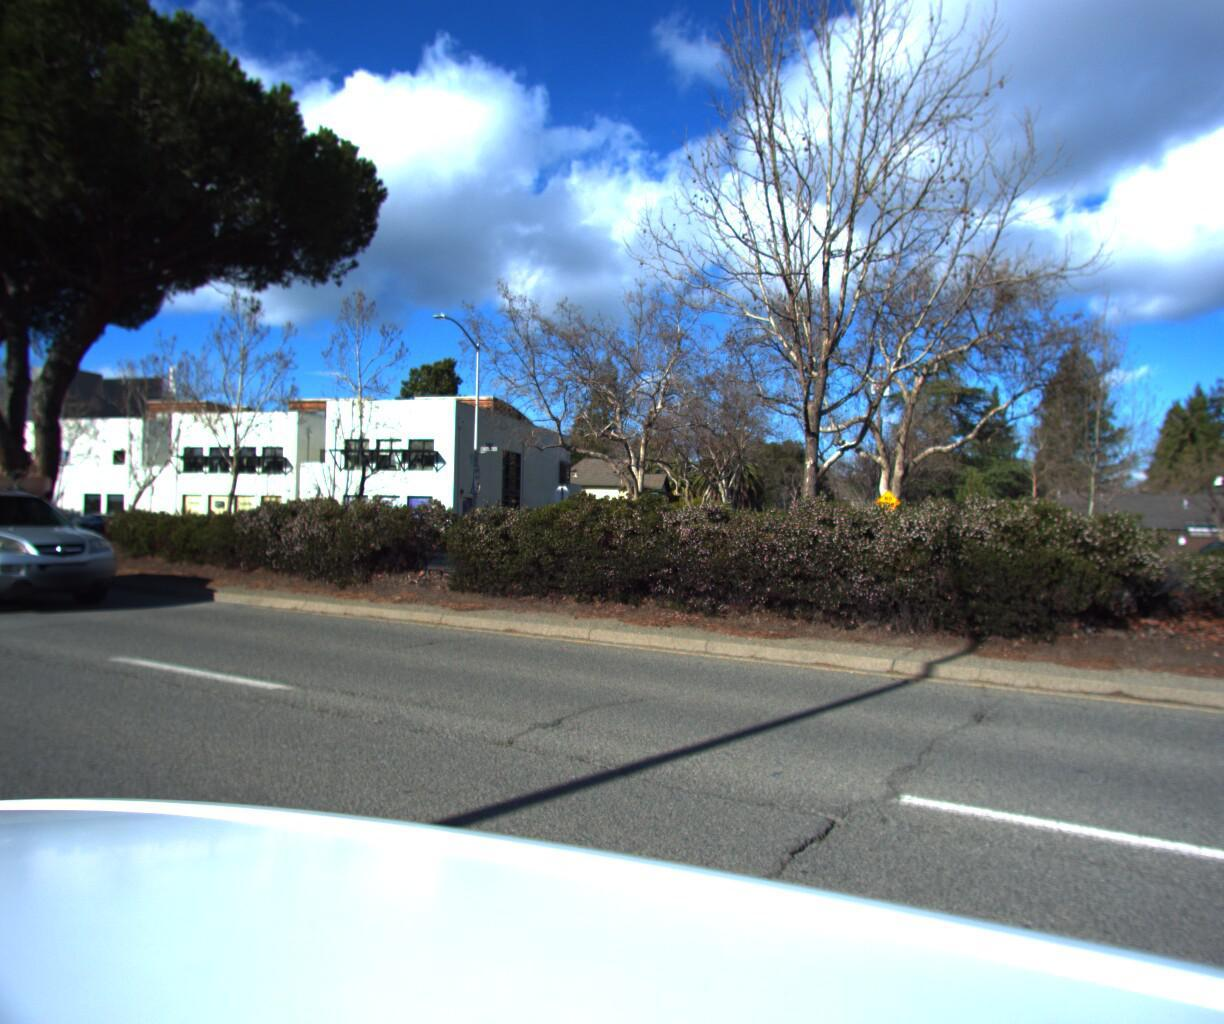car: (0, 469, 139, 621)
